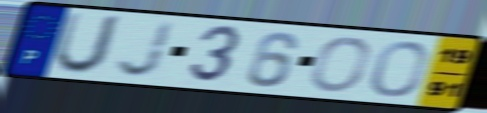3: (184, 23, 243, 86)
6: (246, 29, 300, 89)
J: (113, 20, 178, 79)
O: (307, 35, 374, 94), (368, 39, 431, 99)
U: (49, 10, 126, 78)
